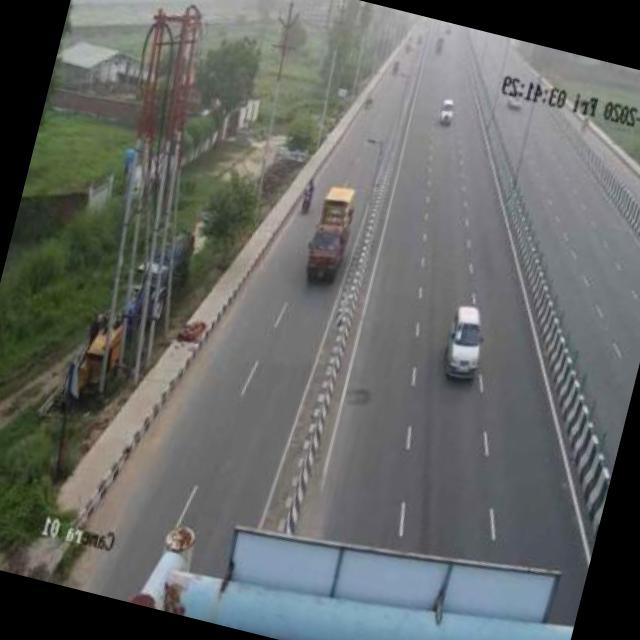car: (427, 300, 493, 390)
